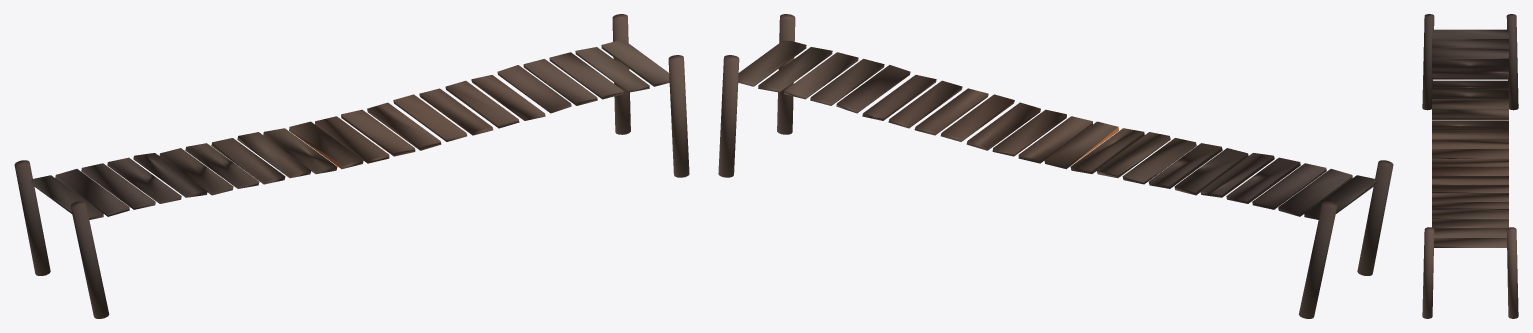
Rendered from WoodenShortStraightBridge.glb.
3 renders of one model, left to right at view 1: azimuth 30°, elevation 25°; view 2: azimuth 150°, elevation 25°; view 3: azimuth 270°, elevation 25°, orthographic. The views are drawn at different scales.
Parts seen in each view (by area): view 1: WoodenShortStraightBridge; view 2: WoodenShortStraightBridge; view 3: WoodenShortStraightBridge.
Part boxes in pixels (x1,y1,x2,y2): WoodenShortStraightBridge: (14, 14, 689, 318); WoodenShortStraightBridge: (718, 14, 1393, 318); WoodenShortStraightBridge: (1422, 14, 1518, 318).
Bounding box in the file's own units: 9.02 × 1.64 × 1.66.
Materials: 1 (1 with a texture image).
